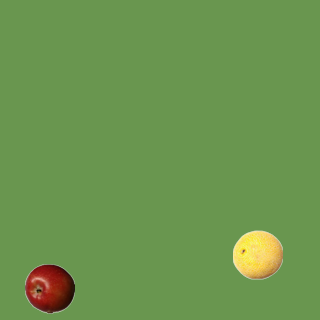Apple Braeburn: (24, 263, 74, 313)
Cantaloupe 1: (232, 229, 282, 279)
